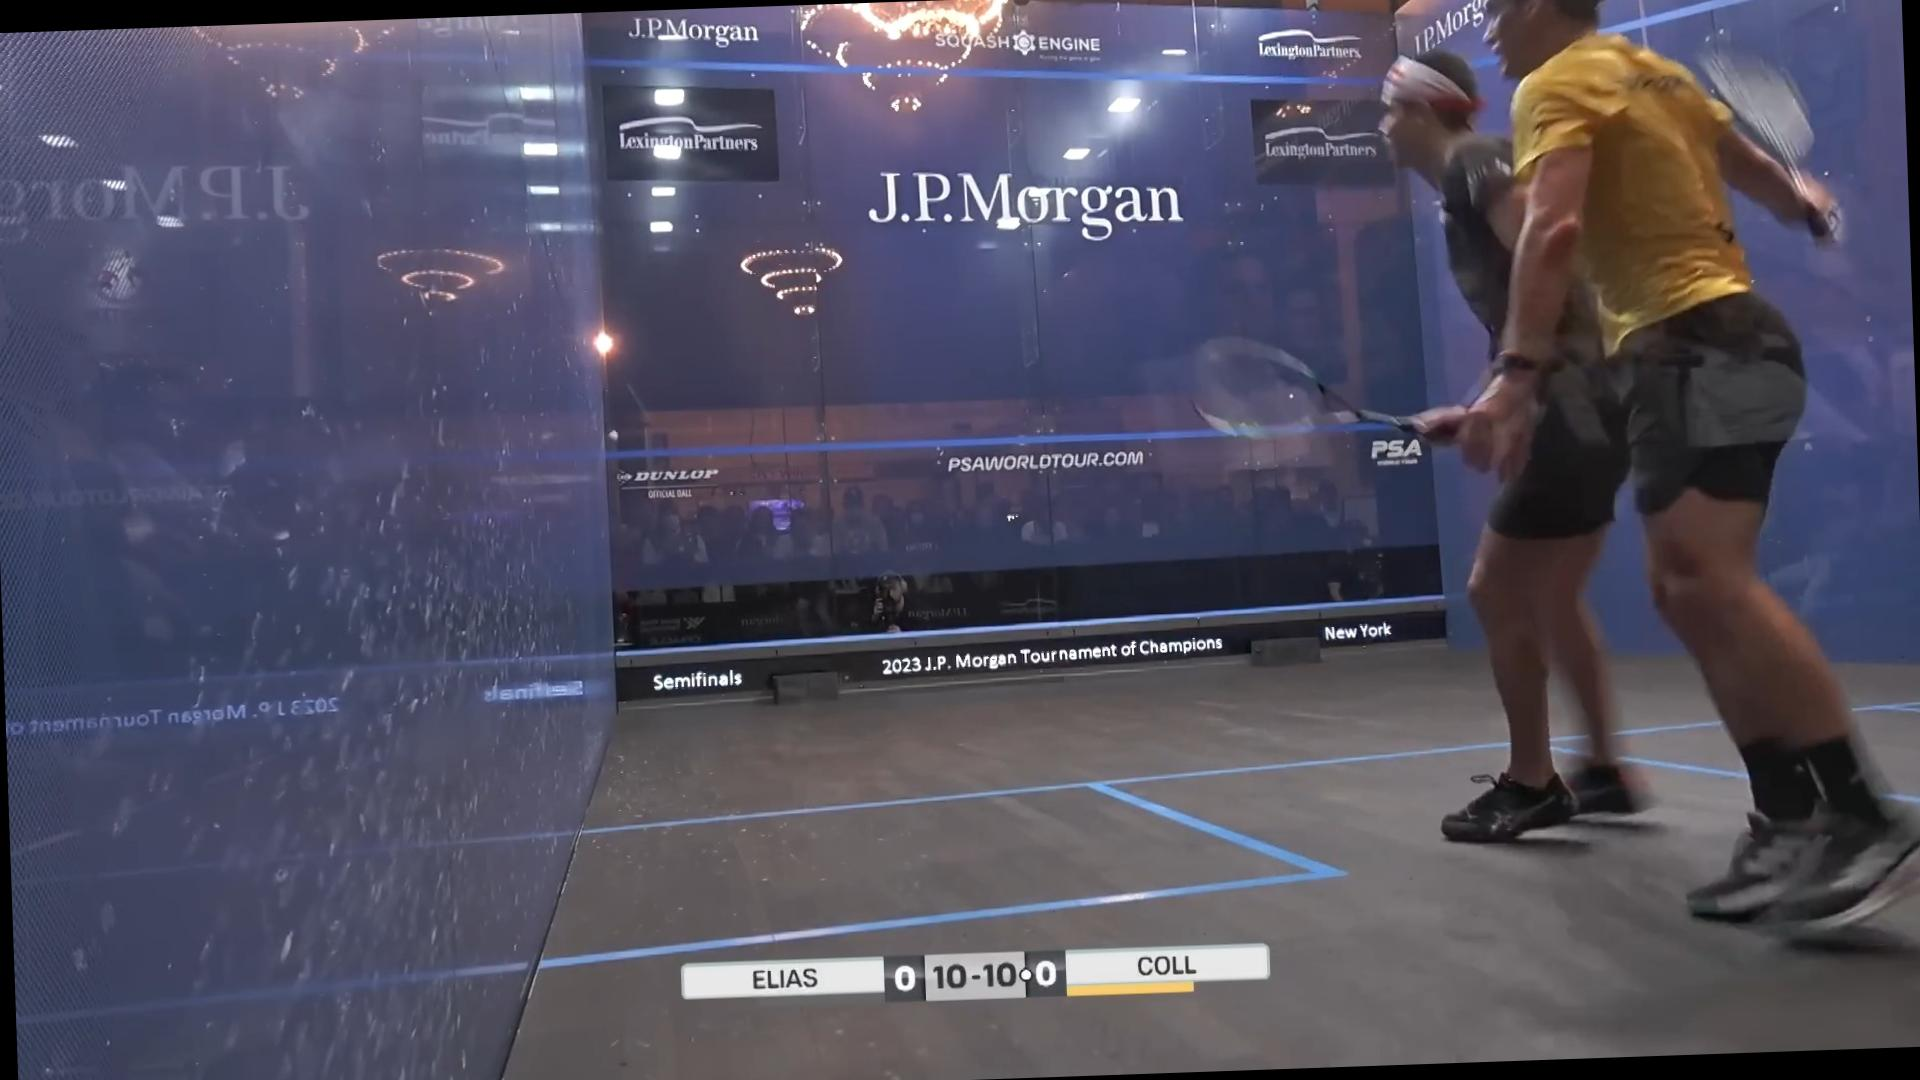Racket: (1183, 323, 1425, 465)
